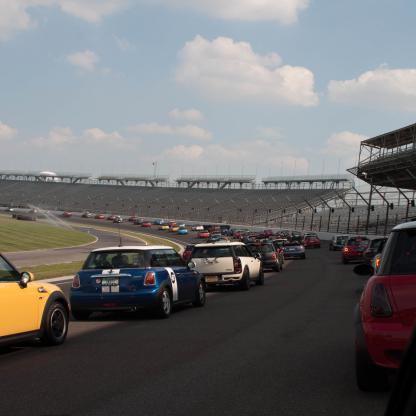Car: (0, 206, 416, 403)
